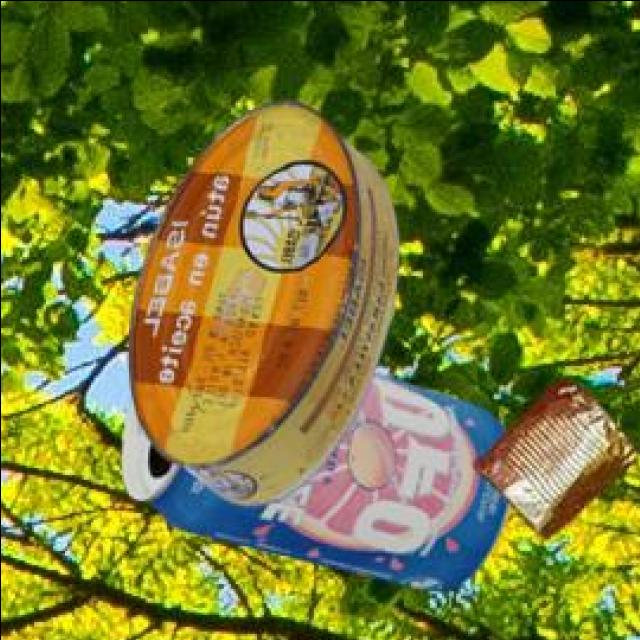logam: (127, 103, 392, 508), (117, 378, 504, 594), (471, 383, 632, 539)
